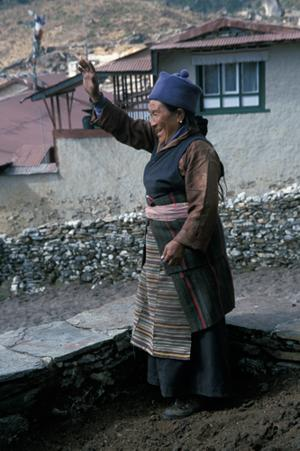person: (77, 57, 236, 408)
